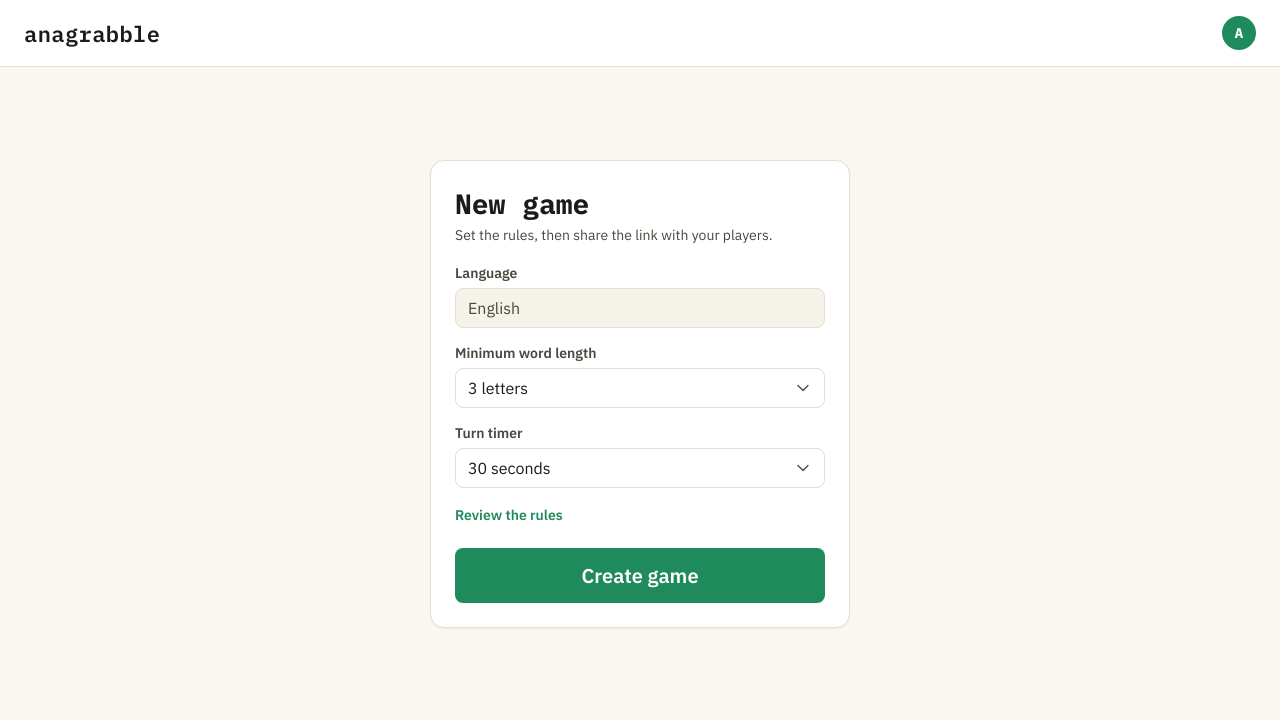
Test: NewGamePage › disables the button and shows 'Creating…' while the request is in flight
Click the button "Create game": [640, 575] box [455,548,825,602]
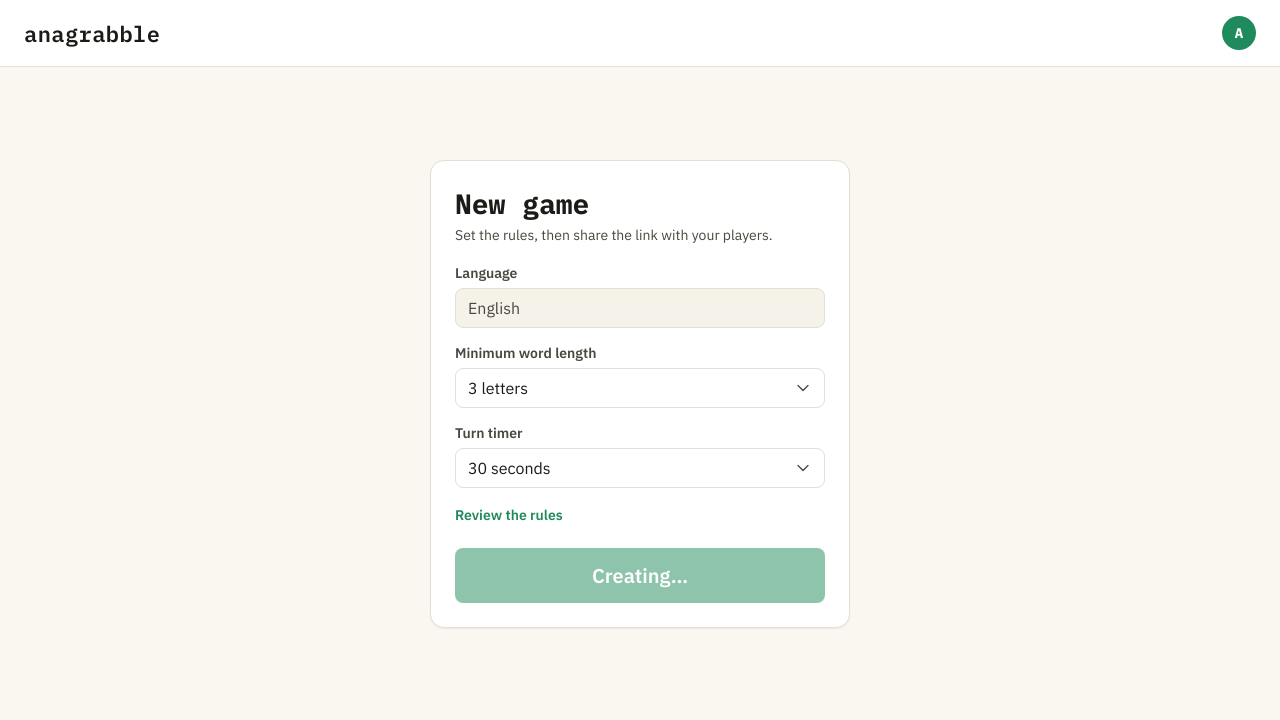
Now the button "Creating…" is disabled, box [455,548,825,602]
